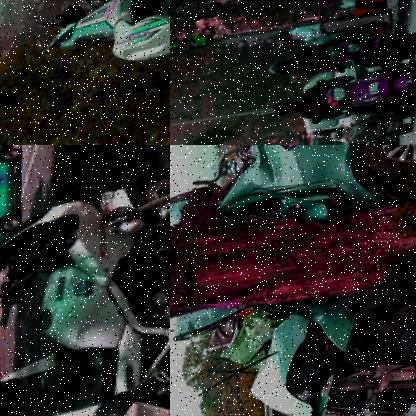bike: (0, 161, 170, 416), (28, 0, 170, 111), (328, 59, 416, 121), (329, 21, 416, 72)
car: (182, 266, 416, 416), (211, 145, 416, 239), (298, 102, 415, 145), (0, 145, 34, 255)
